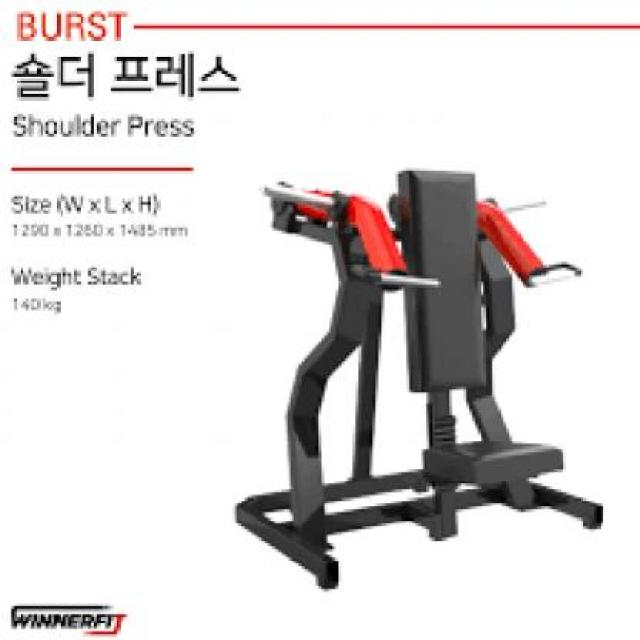shoulder press machine: (222, 150, 606, 598)
